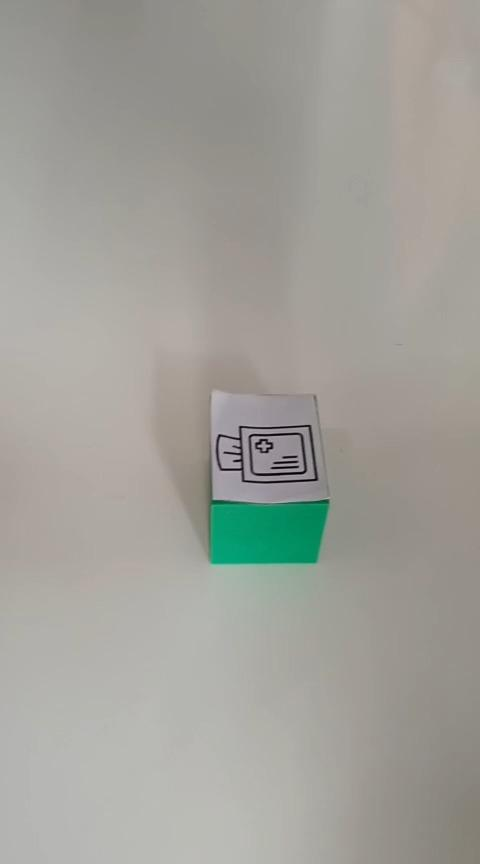Gauze: (207, 388, 331, 565)
